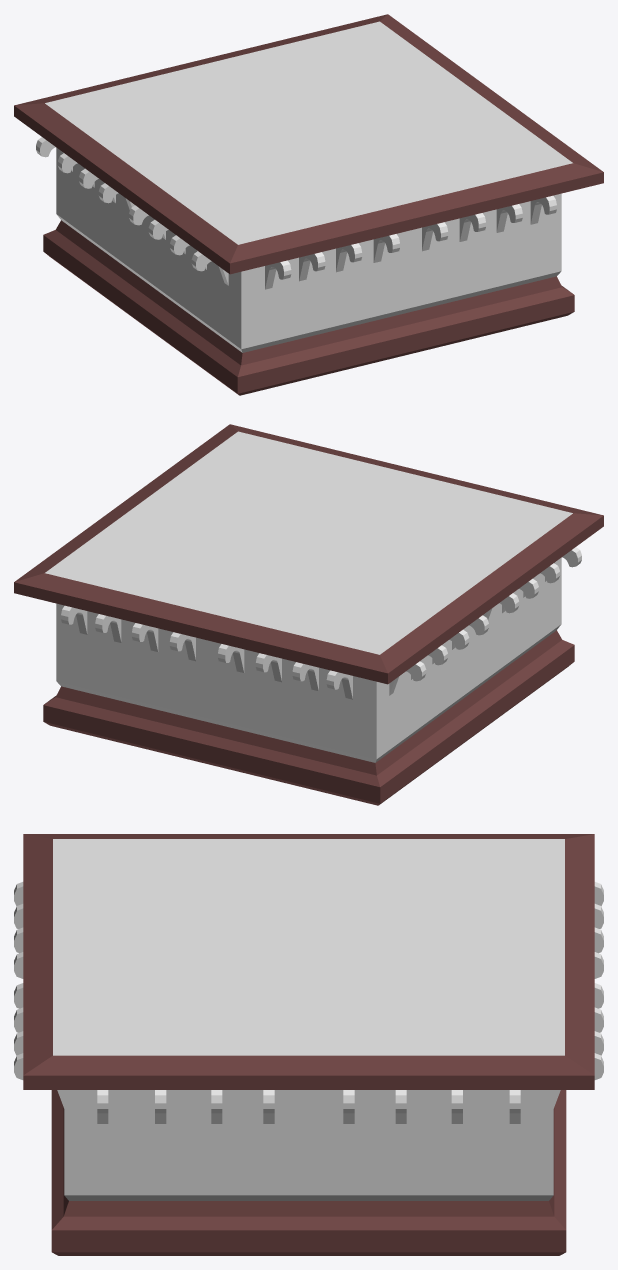
The picture shows the model from 3 angles, top to bottom: view 1: azimuth 30°, elevation 25°; view 2: azimuth 150°, elevation 25°; view 3: azimuth 270°, elevation 25°; orthographic projection. The views are drawn at different scales.
Visible parts, largest first — view 1: floor5.4, floor5.4Decor; view 2: floor5.4, floor5.4Decor; view 3: floor5.4, floor5.4Decor.
Part boxes in pixels (box(x1,y1,x2,y2)): floor5.4: box(14, 14, 603, 395); floor5.4Decor: box(36, 137, 556, 289); floor5.4: box(14, 424, 603, 805); floor5.4Decor: box(61, 547, 581, 699); floor5.4: box(23, 834, 594, 1255); floor5.4Decor: box(14, 882, 603, 1123).
Bounding box in the file's own units: 241 × 91.38 × 241.
